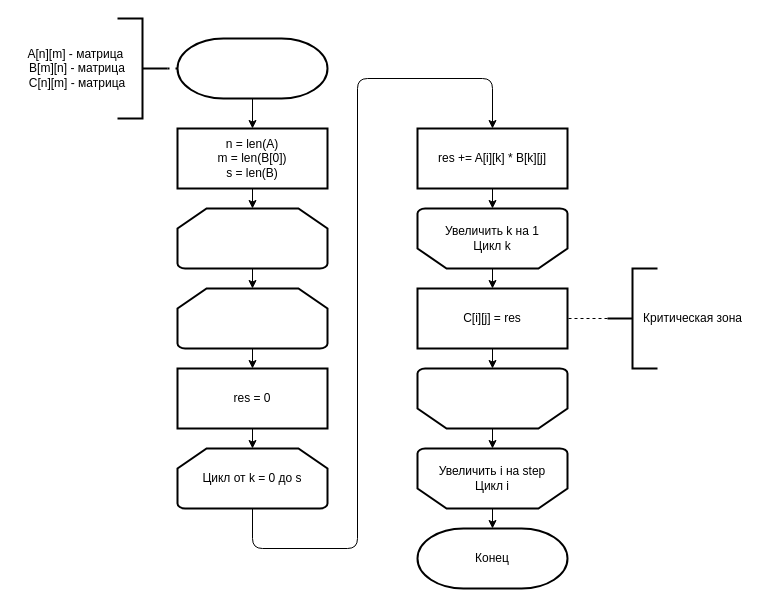
Image size: 764x606. Some labels were removed from this diagram. The box of each missing label's shape, as (x1, y1, x2, y2) in pixels:
Начало: (176, 37, 328, 99)
Увеличить j на 1 Цикл j: (416, 367, 568, 429)
Цикл от i = start до n: (176, 207, 328, 269)
Цикл от j = 0 до m: (176, 287, 328, 349)
